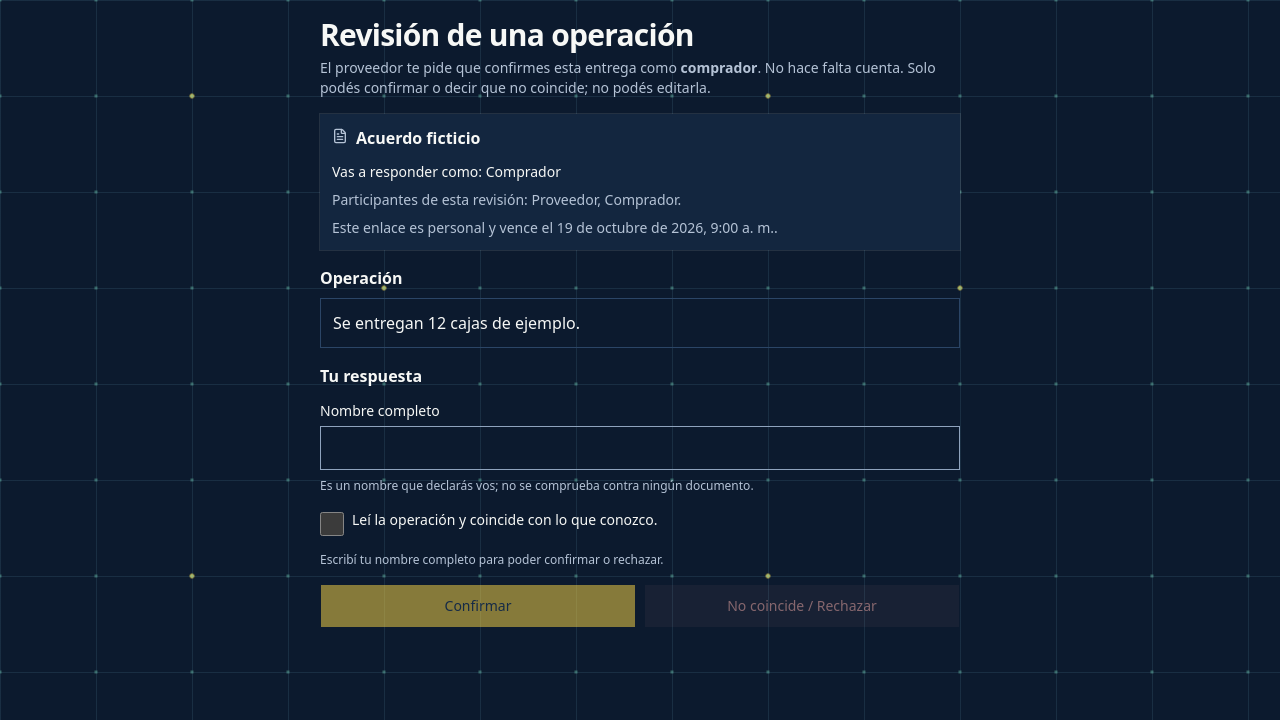
Test case: ConfirmationContainer › confirmar envía el comando por POST con el token en el cuerpo, no en la URL, y muestra solo el resultado persistido
In the field labelled "Nombre completo": (640,448) [320,426,960,470], type "Juan Pérez"
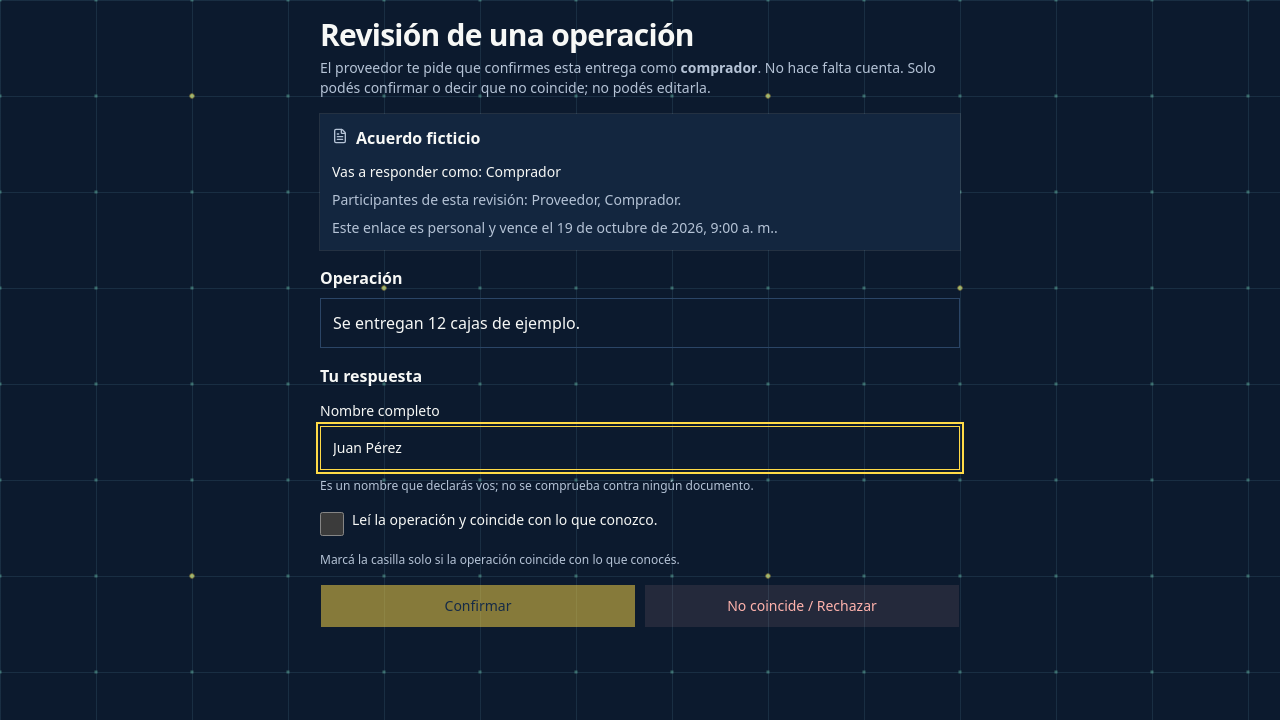
Click the checkbox: (332,524) [320,512,344,536]
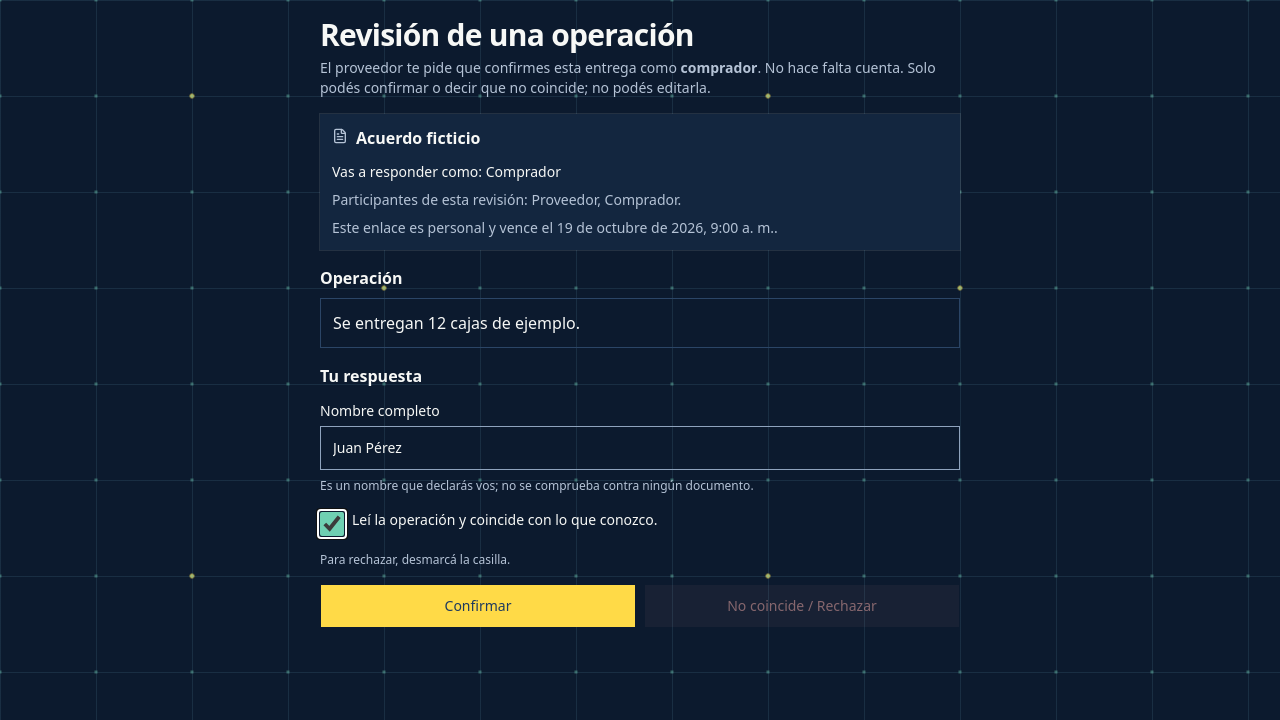
Click the button "Confirmar": (478,606) [320,584,636,628]
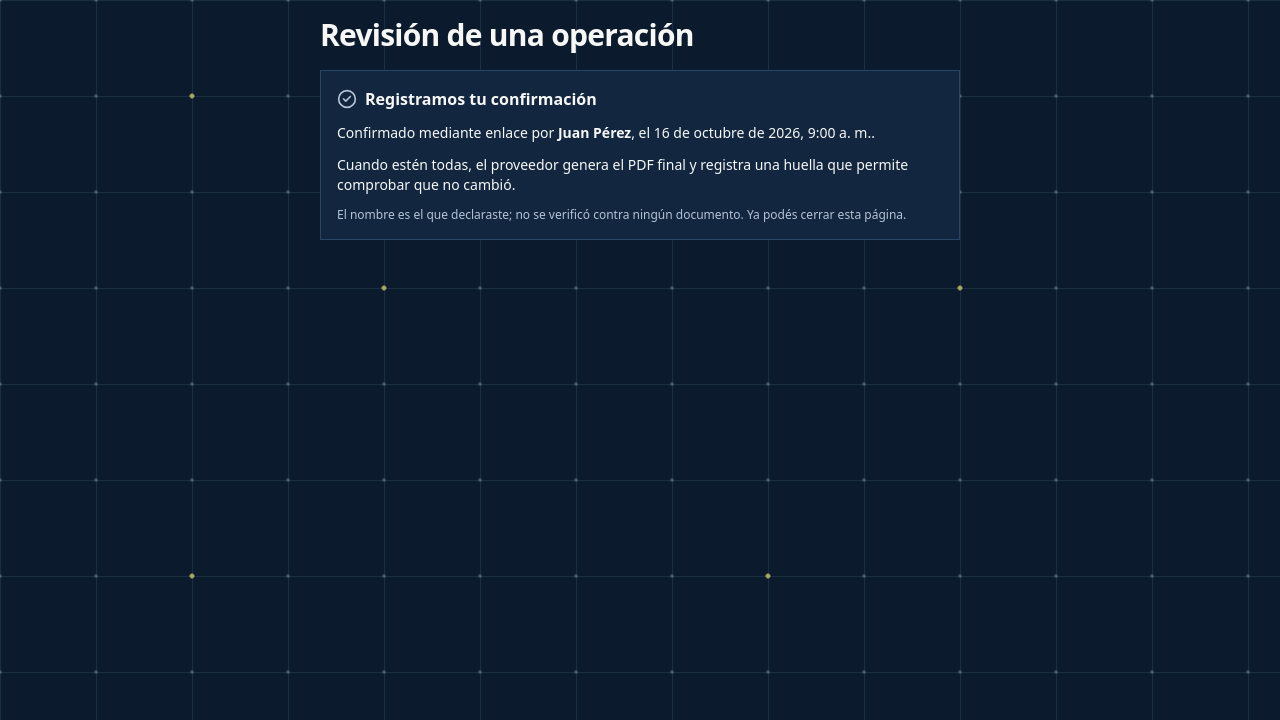
Expected: the text "Registramos tu confirmación" is shown, [337,88,597,110]
